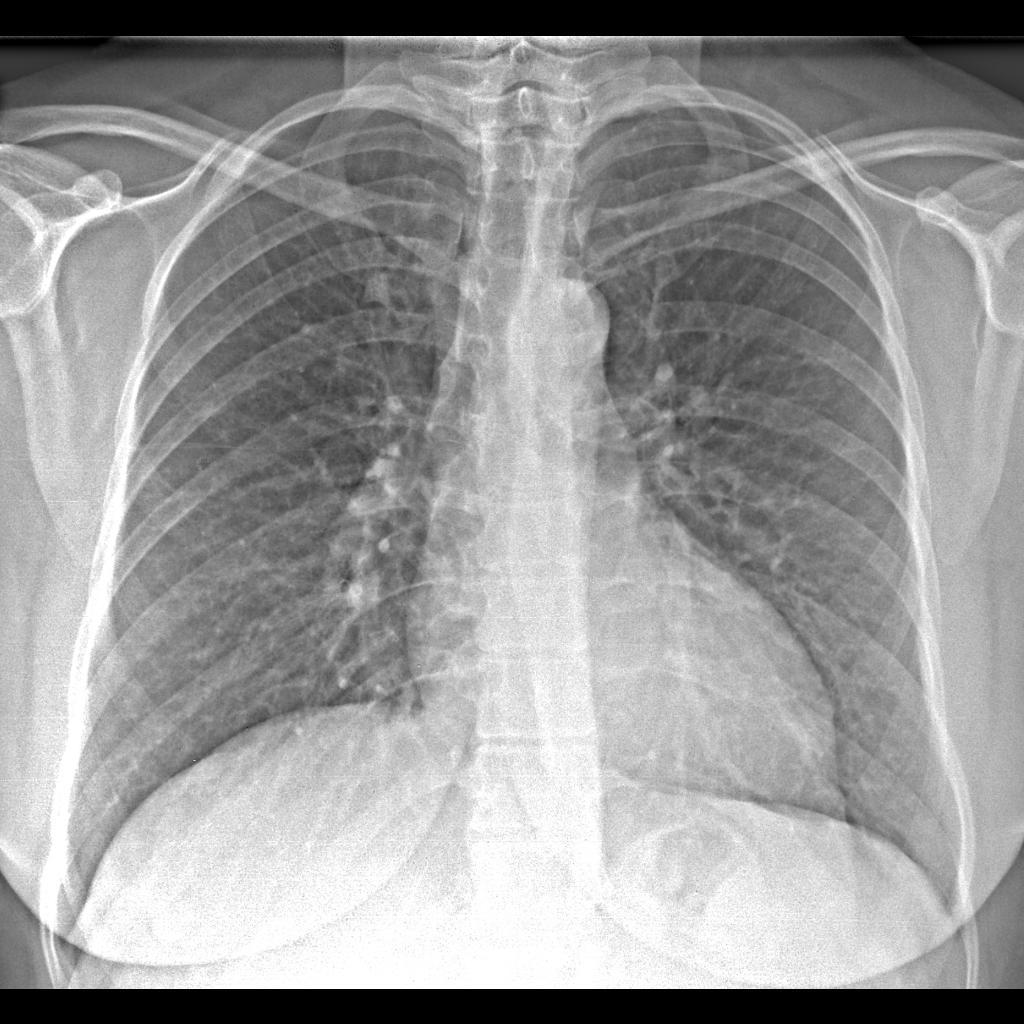Nodule: (348, 262, 402, 321)
